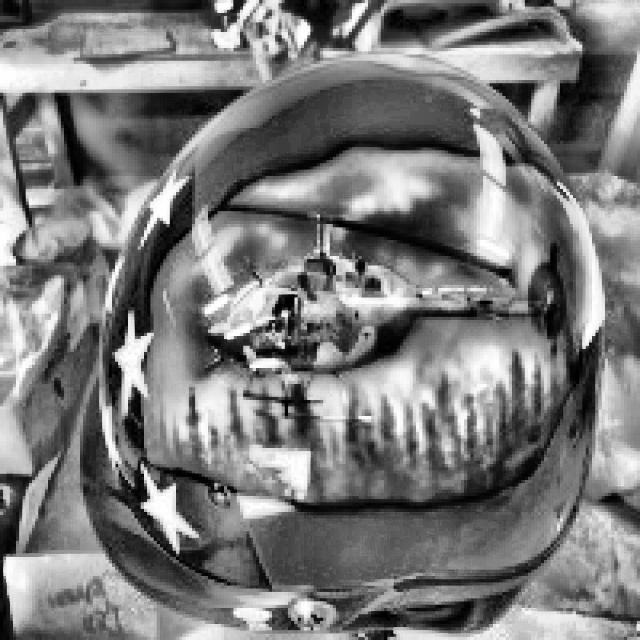Helmet: (85, 54, 614, 640)
